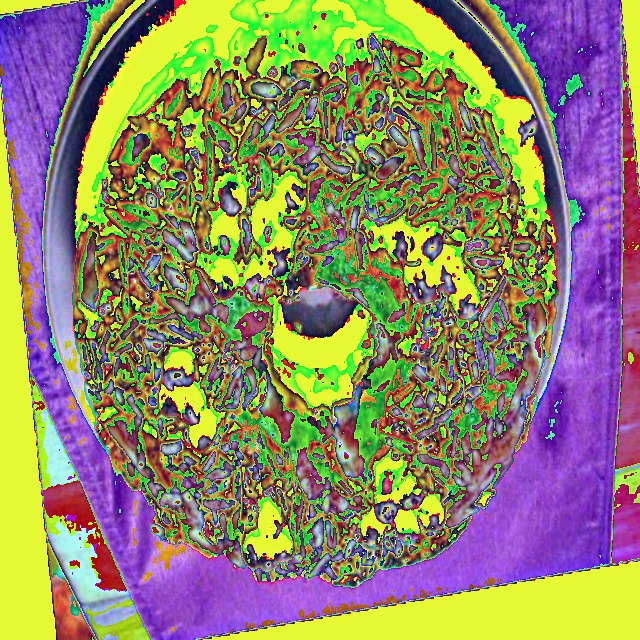background: (72, 0, 561, 592)
